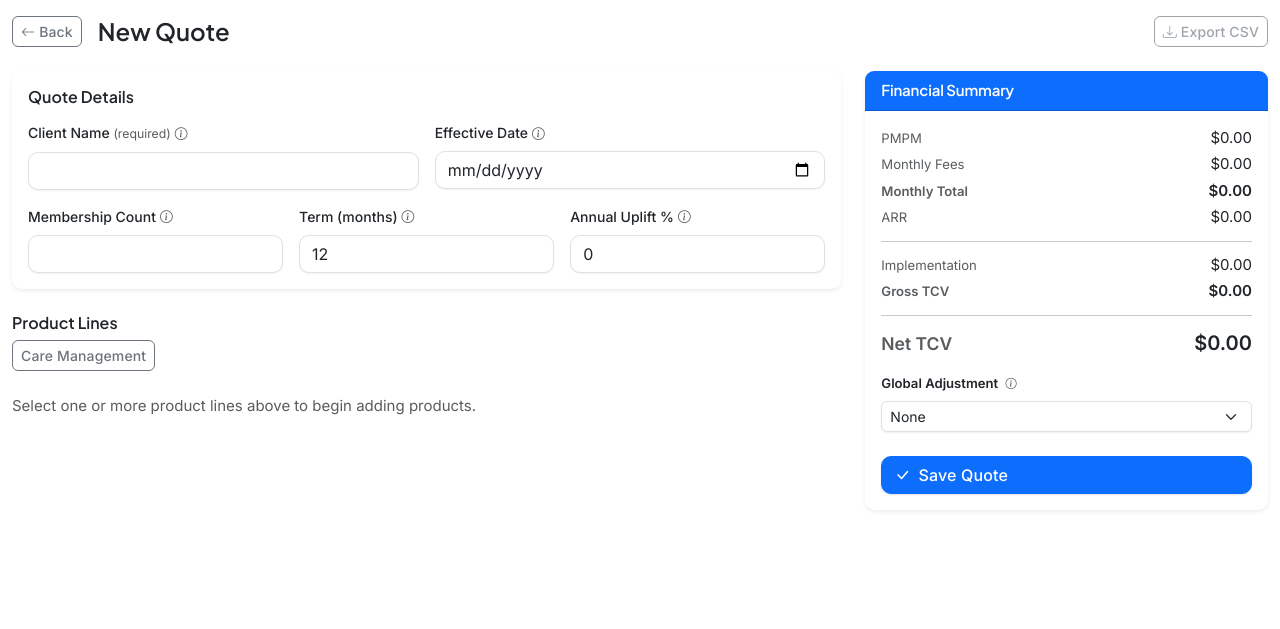
Test: toggling a pill shows its product section
Step 1. Click the button with aria-label "add care management" → {"x": 84, "y": 355}, box [12,340,155,371]
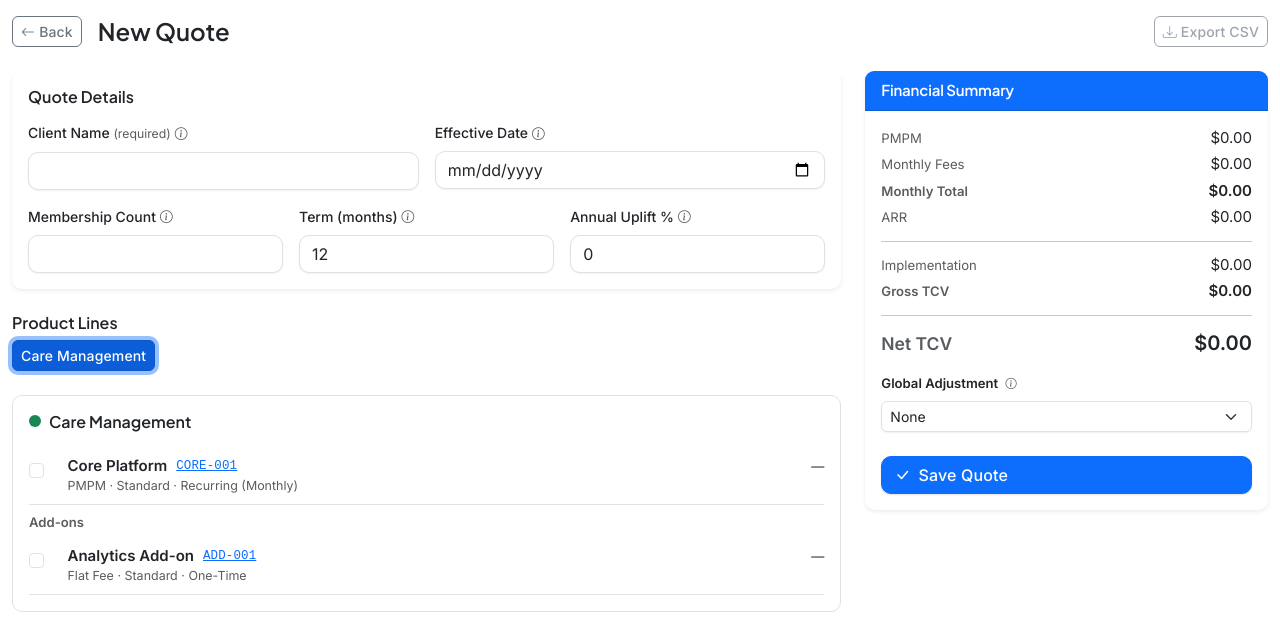
expect the checkbox named "select core platform" is shown: met, box [29,463,44,478]
